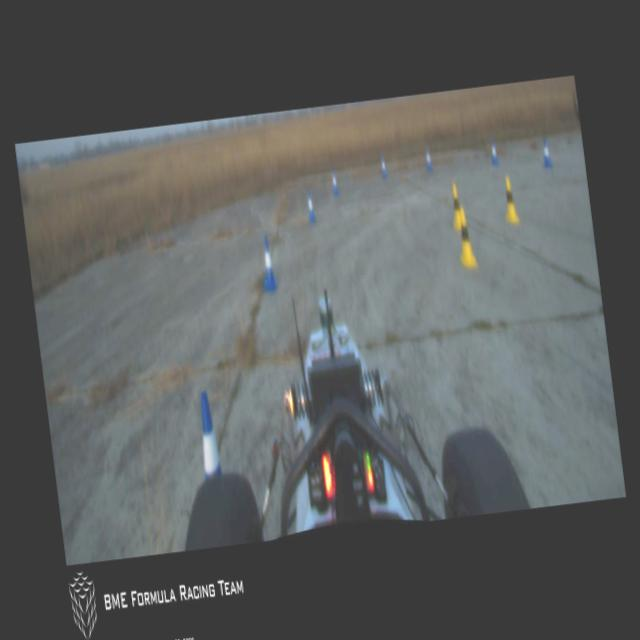blue_cone: (195, 391, 222, 478), (256, 234, 278, 291), (302, 188, 316, 222), (539, 134, 552, 168), (488, 138, 499, 166), (329, 167, 339, 195), (379, 154, 387, 179), (424, 147, 432, 171)
yellow_cone: (453, 206, 478, 269), (500, 174, 519, 224), (448, 182, 464, 229)
